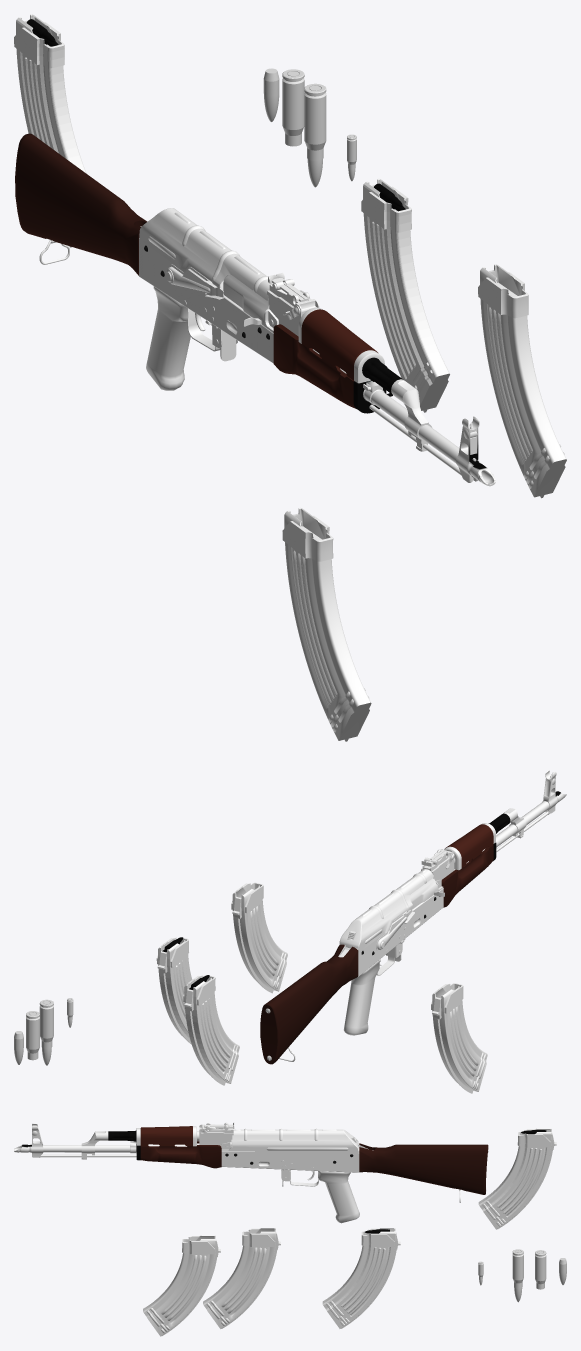
File: AK-작업본-완성(무채색.fbx
3 renders of one model, top to bottom at view 1: azimuth 30°, elevation 25°; view 2: azimuth 150°, elevation 25°; view 3: azimuth 270°, elevation 25°, orthographic. The views are drawn at different scales.
Parts seen in each view (by area): view 1: GDGDGDG, 탄창_빈, 개머리판(나무, 탄창_탄있음, 탄창_탄있음.001, 상부 총몸, 하부 총몸, 손잡이(나무, 하단총열덮개+핸드가드(나무, 상단총열 덮개(나무, 7.62MM_BP_합체형, 가늠쇠(전방 조준기)+배럴2 (+7 smaller); view 2: 개머리판(나무, GDGDGDG, 탄창_빈, 탄창_탄있음.001, 상부 총몸, 탄창_탄있음, 하부 총몸, 손잡이(나무, 하단총열덮개+핸드가드(나무, 상단총열 덮개(나무, 7.62MM_BP_합체형, 가늠쇠(전방 조준기)+배럴2 (+4 smaller); view 3: 개머리판(나무, 탄창_탄있음, GDGDGDG, 탄창_빈, 탄창_탄있음.001, 상부 총몸, 하부 총몸, 하단총열덮개+핸드가드(나무, 손잡이(나무, 상단총열 덮개(나무, 가늠쇠(전방 조준기)+배럴2, 가늠자 몸통 (+6 smaller).
Part boxes in pixels (x1,y1,x2,y2): GDGDGDG: [282, 507, 371, 741]; 탄창_빈: [478, 264, 566, 498]; 개머리판(나무: [15, 133, 147, 275]; 탄창_탄있음: [361, 178, 449, 412]; 탄창_탄있음.001: [14, 14, 86, 247]; 상부 총몸: [139, 208, 272, 300]; 하부 총몸: [139, 238, 273, 363]; 손잡이(나무: [146, 286, 190, 390]; 하단총열덮개+핸드가드(나무: [273, 324, 356, 408]; 상단총열 덮개(나무: [301, 309, 377, 380]; 7.62MM_BP_합체형: [304, 83, 326, 187]; 가늠쇠(전방 조준기)+배럴2: [313, 349, 479, 482]; 개머리판(나무: [260, 944, 358, 1064]; GDGDGDG: [431, 983, 487, 1093]; 탄창_빈: [231, 882, 287, 993]; 탄창_탄있음.001: [183, 975, 239, 1085]; 상부 총몸: [339, 869, 433, 952]; 탄창_탄있음: [156, 937, 192, 1044]; 하부 총몸: [357, 888, 443, 977]; 손잡이(나무: [343, 959, 380, 1035]; 하단총열덮개+핸드가드(나무: [441, 844, 493, 907]; 상단총열 덮개(나무: [445, 824, 493, 867]; 7.62MM_BP_합체형: [39, 999, 53, 1065]; 가늠쇠(전방 조준기)+배럴2: [454, 770, 557, 870]; 개머리판(나무: [359, 1143, 488, 1194]; 탄창_탄있음: [322, 1228, 400, 1328]; GDGDGDG: [143, 1235, 220, 1336]; 탄창_빈: [203, 1228, 280, 1328]; 탄창_탄있음.001: [478, 1128, 556, 1229]; 상부 총몸: [232, 1128, 358, 1152]; 하부 총몸: [221, 1151, 359, 1172]; 하단총열덮개+핸드가드(나무: [140, 1141, 221, 1168]; 손잡이(나무: [318, 1171, 359, 1223]; 상단총열 덮개(나무: [140, 1126, 192, 1145]; 가늠쇠(전방 조준기)+배럴2: [32, 1123, 199, 1157]; 가늠자 몸통: [199, 1123, 233, 1147].
Bounding box in the file's own units: 28.27 × 32.68 × 74.11.
